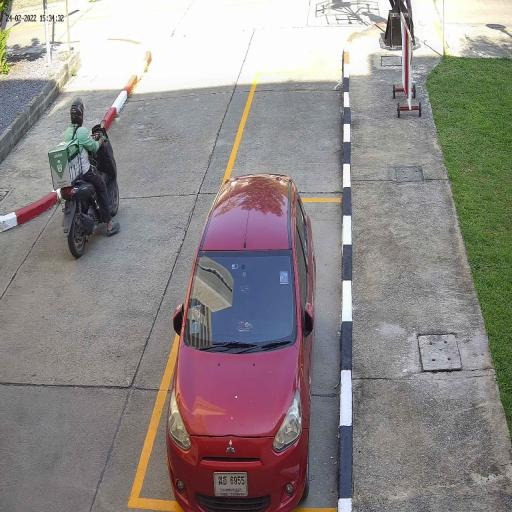car: (166, 172, 318, 512)
motorcycle: (60, 183, 120, 260)
